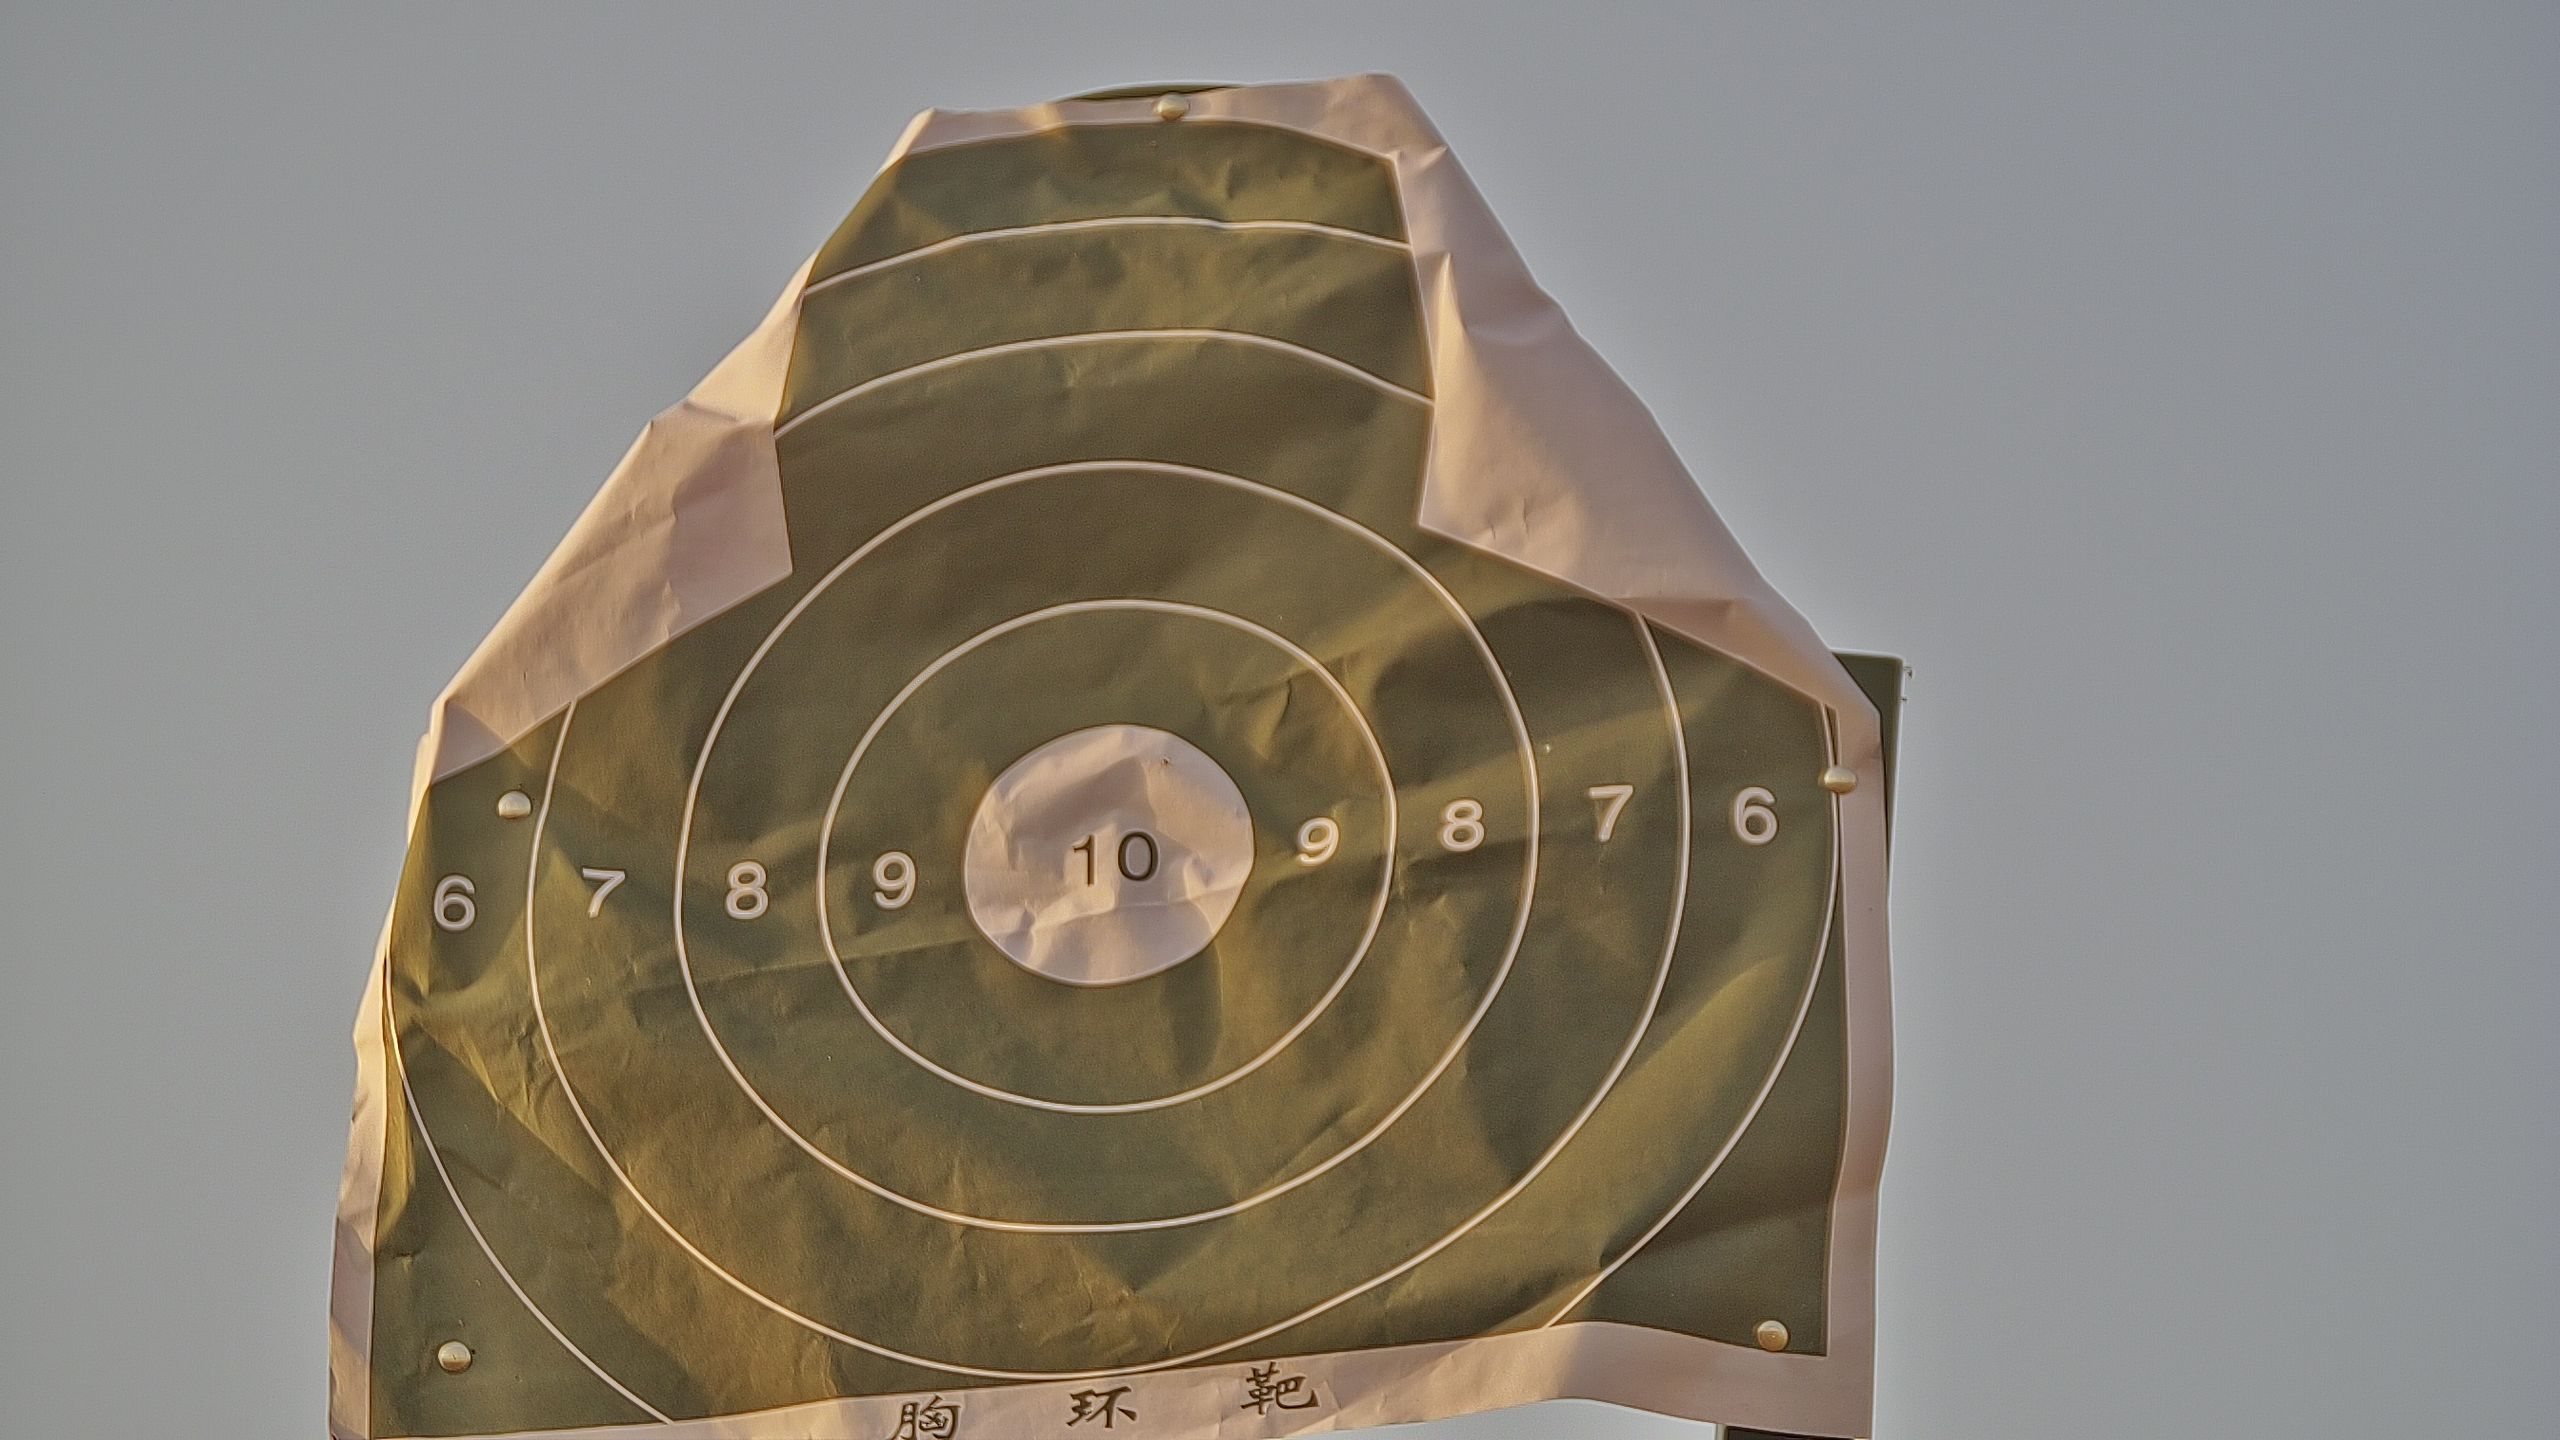kernel: (1104, 858, 1108, 863)
target: (367, 121, 1857, 1438)
ten: (962, 723, 1255, 988)
